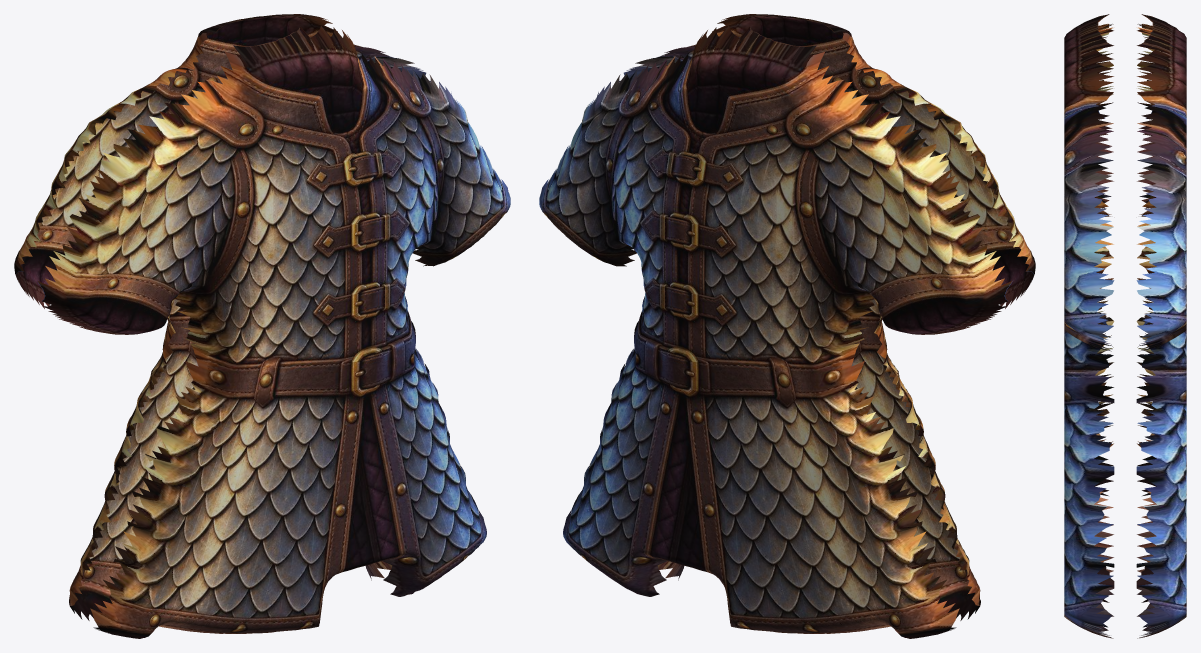
The model's file is v4-item-scale-mail.glb.
3 views of the same model, side by side, from view 1: azimuth 30°, elevation 25°; view 2: azimuth 150°, elevation 25°; view 3: azimuth 270°, elevation 25° (orthographic). The views are drawn at different scales.
Visible parts, largest first — view 1: v4-item-scale-mail; view 2: v4-item-scale-mail; view 3: v4-item-scale-mail.
Boxes of the visible parts, x1,y1,x2,y2 form: v4-item-scale-mail: (14, 14, 510, 638); v4-item-scale-mail: (539, 14, 1035, 638); v4-item-scale-mail: (1064, 14, 1186, 638).
Size of the model in its own units: 0.8071 by 0.9857 by 0.1971.
Materials: 1 (1 with a texture image).
